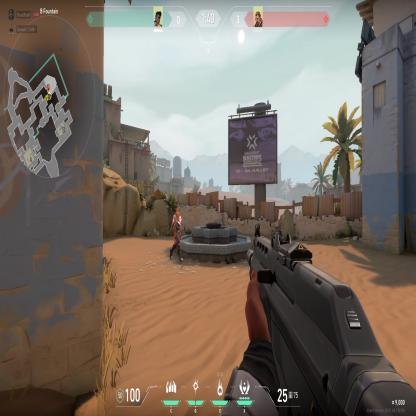enemy: (169, 209, 184, 262)
